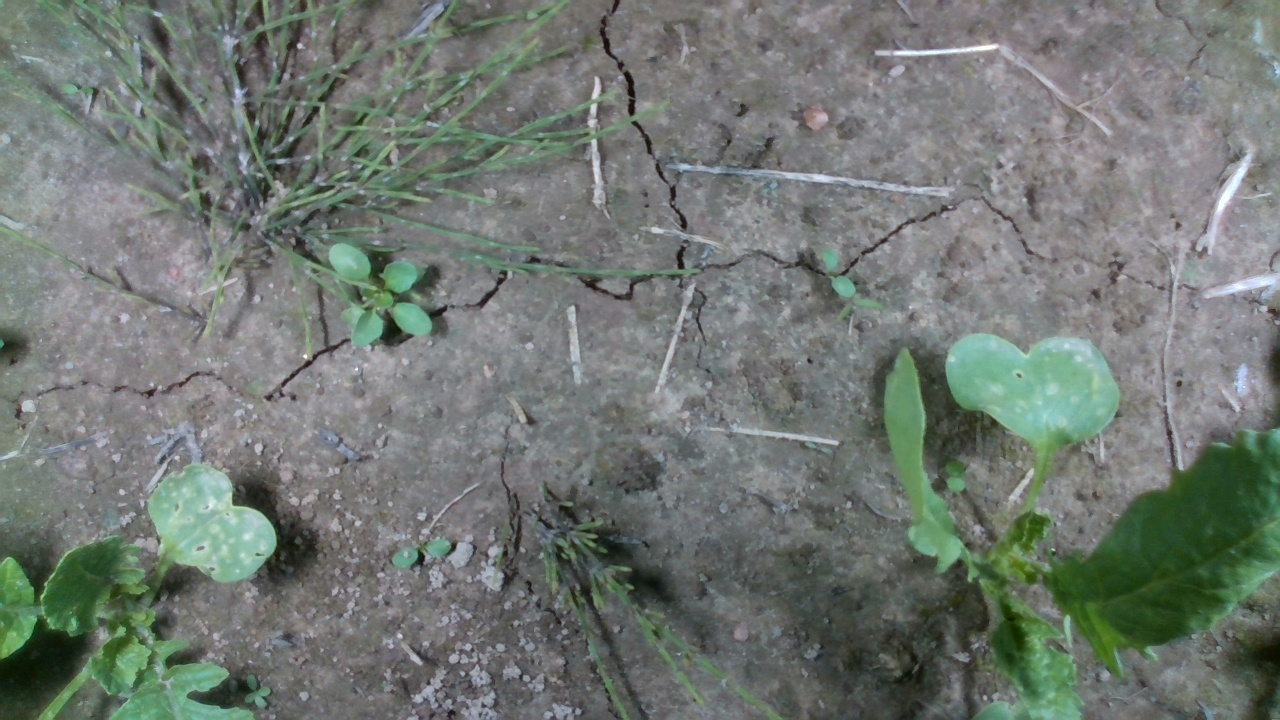weed: (389, 537, 452, 571)
